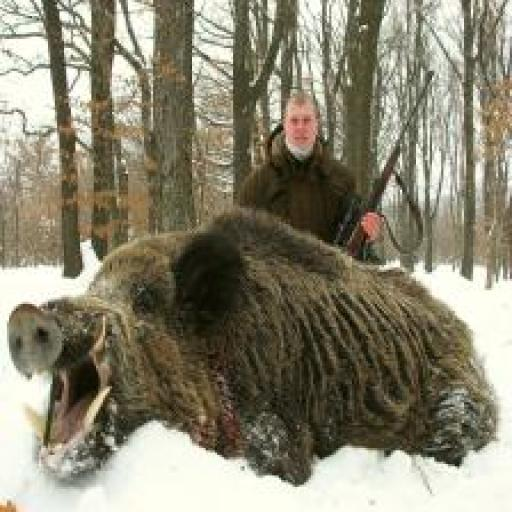Pig: (9, 208, 501, 485)
